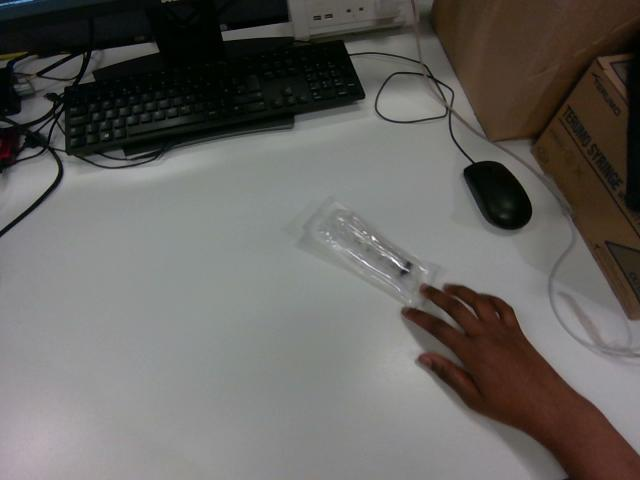syringe: (304, 199, 438, 306)
